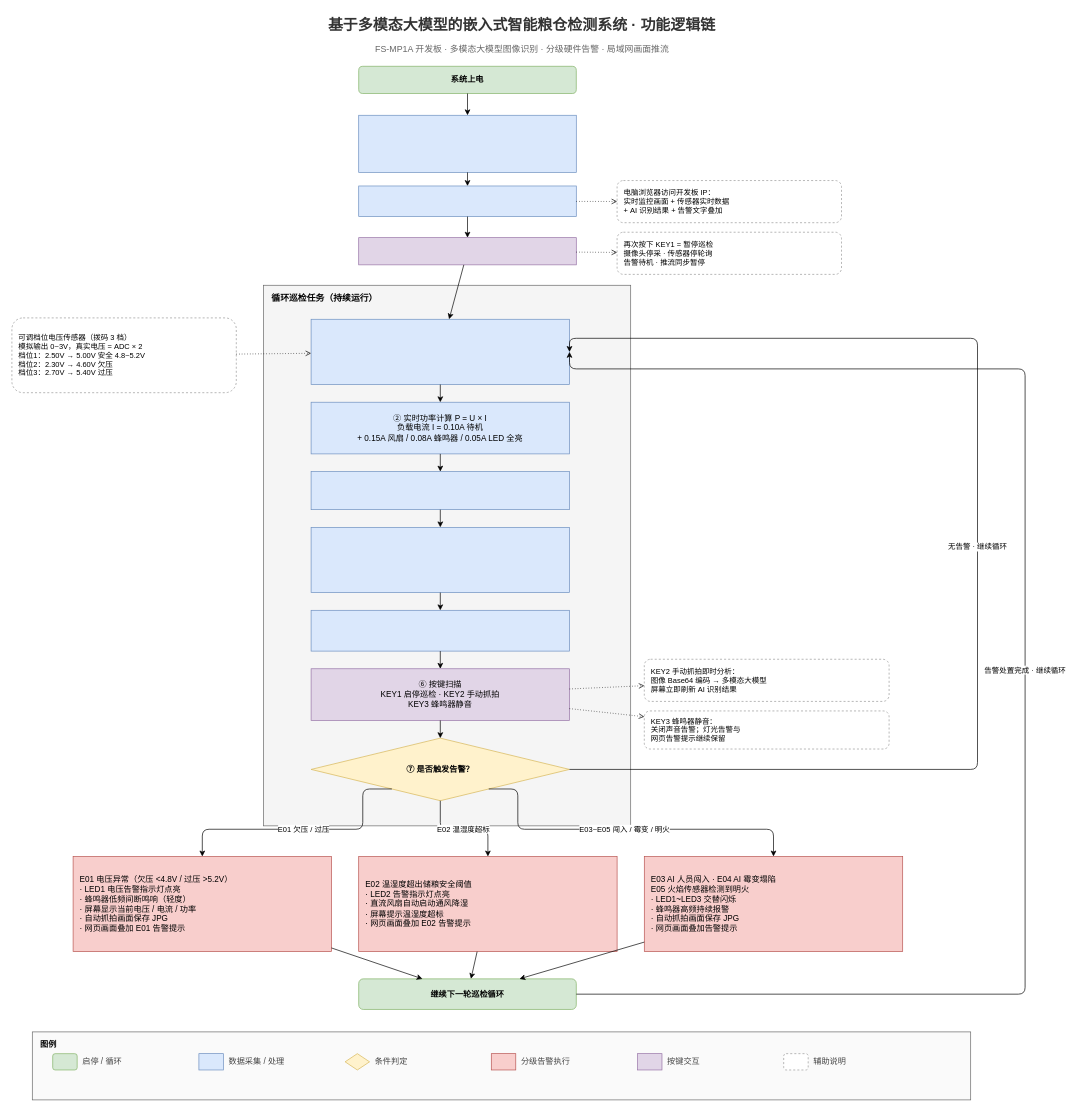
The diagram is 1078 pixels wide and 1112 high, and some of its shapes have lost their labels. Each missing label, with the centre of its shape:
① 传感器数据采集 电压传感器 ADC 采样（×2 换算 0~6V） 温湿度 / 光照 / 人体红外 / 火焰传感器: the point at 440,352
③ 摄像头周期采集粮仓图像 Base64 编码后上传: the point at 440,490
④ 多模态大模型识别画面 人员闯入 / 粮食霉变结块 / 粮面塌陷 虫害堆积 / 杂物遗留 / 明火隐患: the point at 440,560
⑤ 终端 LCD + 局域网网页刷新 传感器实时数据 + AI 识别结果: the point at 440,630
初始化外设 摄像头 · 电压/温湿度/光照传感器 人体红外 / 火焰传感器 · LED×3 直流风扇 · 蜂鸣器 · 网络服务: the point at 467,143
开发板接入局域网 开启网页视频服务: the point at 467,201
按下 KEY1 · 启动巡检任务: the point at 467,251
